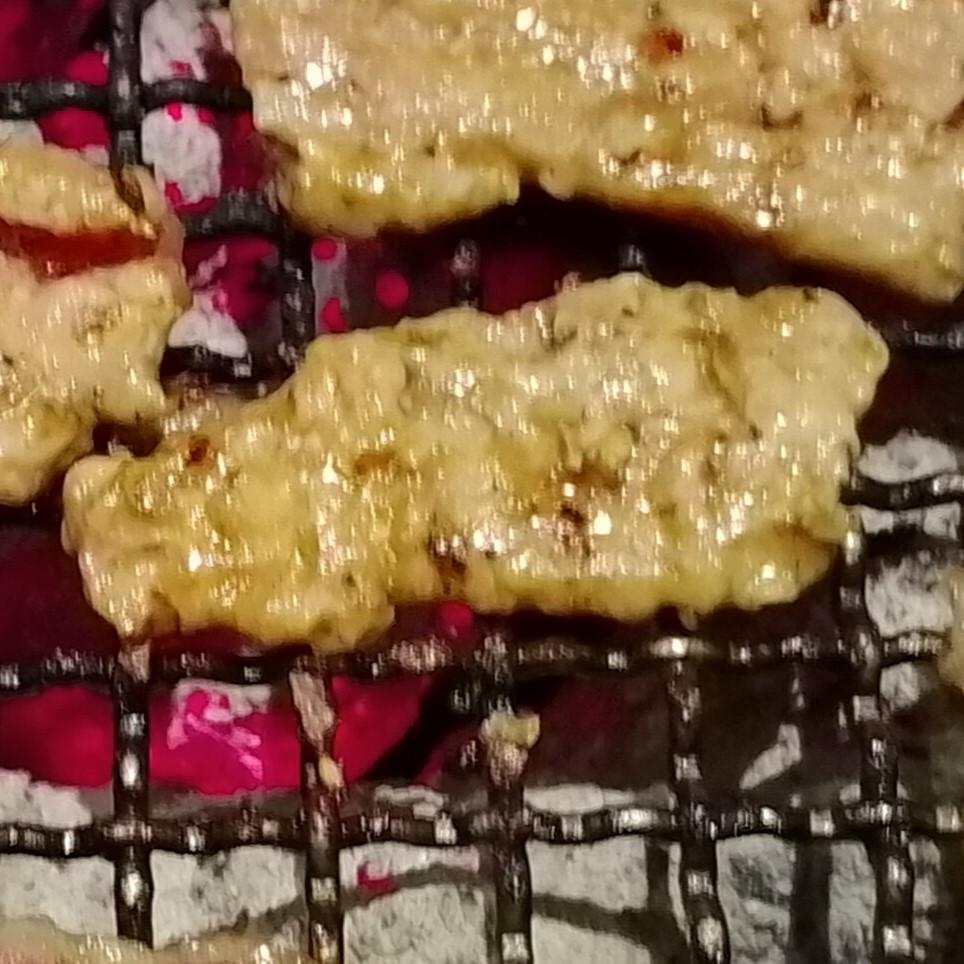Well-Cooked: (59, 274, 891, 657), (292, 0, 963, 271)
